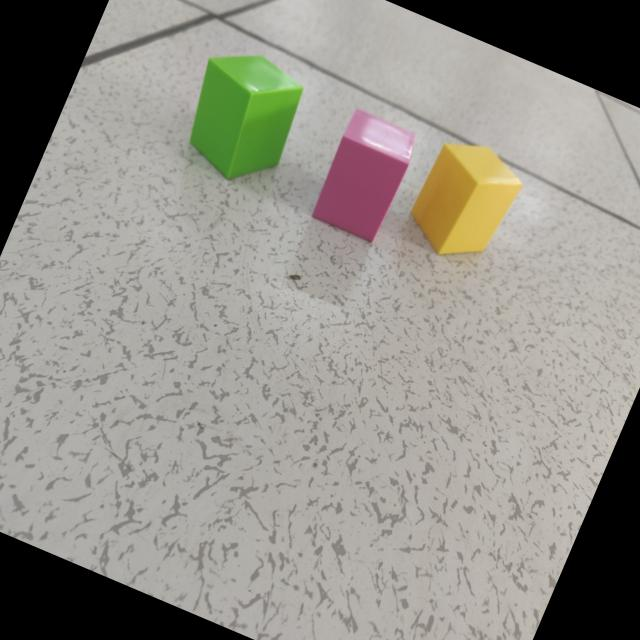green: (189, 56, 303, 181)
pink: (310, 109, 414, 244)
yellow: (409, 142, 522, 258)
